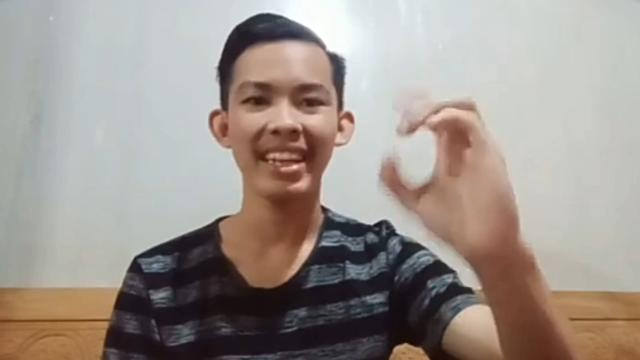C: (377, 88, 521, 260)
